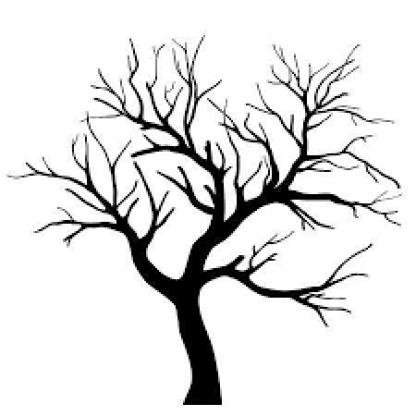branch_sharp: (7, 35, 402, 329)
trunk_reflex: (172, 311, 225, 396)
